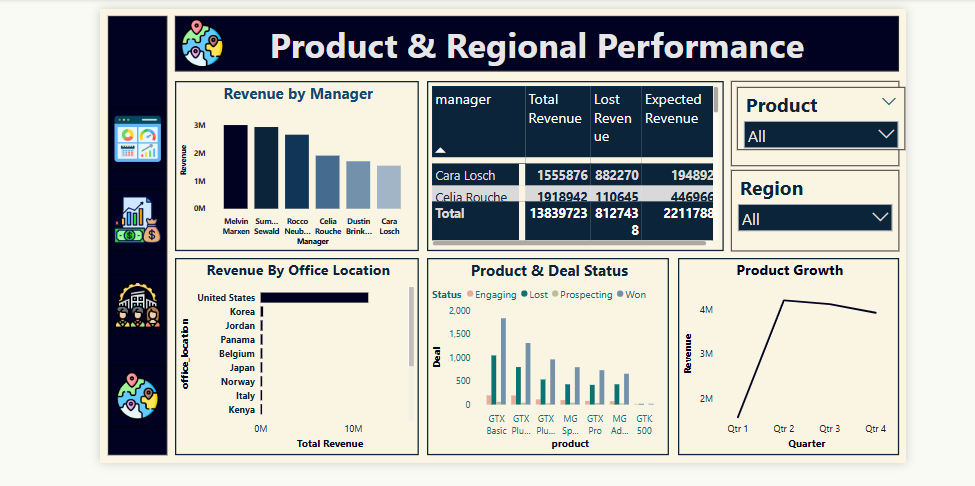

The dashboard page shown, as its layout file describes it:
{"tool":"powerbi","page":{"name":"Sales Team","canvas":[1280,720],"ordinal":3},"visuals":[{"type":"shape","box":[12.3,10.8,93.8,696.9],"z":0},{"type":"image","box":[15.4,156.9,87.7,98.5],"z":1000},{"type":"image","box":[15.4,564.6,87.7,98.5],"z":2000},{"type":"image","box":[15.4,420,87.7,98.5],"z":3000},{"type":"image","box":[15.4,286.2,87.7,98.5],"z":4000},{"type":"shape","title":"dddd","box":[118.5,10.8,1149.2,87.7],"z":5000},{"type":"columnChart","fields":{"Y":["Sum(sales_pipeline.close_value)"],"Category":["sales_teams.manager"]},"box":[119,114.3,387.3,269.8],"z":7000},{"type":"clusteredBarChart","title":"Revenue By Office Location","fields":{"Category":["sales_pipeline.office_location"],"Y":["sales_pipeline.Total Revenue"]},"box":[119,395.2,387.3,312.7],"z":8000},{"type":"pivotTable","fields":{"Values":["sales_pipeline.Total Revenue","sales_pipeline.Lost Revenue","sales_pipeline.Expected Revenue"],"Rows":["sales_pipeline.manager"]},"box":[519,114.3,471.4,269.8],"z":9000},{"type":"clusteredColumnChart","title":"Product & Deal Status","fields":{"Category":["sales_pipeline.product"],"Series":["sales_pipeline.deal_stage"],"Y":["CountNonNull(sales_pipeline.opportunity_id)"]},"box":[519,395.2,384.1,312.7],"z":10000},{"type":"lineChart","title":"Product Growth","fields":{"Category":["sales_pipeline.close_date.Variation.Date Hierarchy.Quarter"],"Y":["Sum(sales_pipeline.close_value)"]},"box":[917.5,395.2,350.8,312.7],"z":11000},{"type":"slicer","fields":{"Values":["sales_pipeline.product"]},"box":[1001.6,114.3,266.7,134.9],"z":12000},{"type":"slicer","fields":{"Values":["sales_teams.regional_office"]},"box":[1001.6,255.6,266.7,128.6],"z":13000},{"type":"image","box":[119,4.8,87.3,98.4],"z":14001}]}

Visuals, with their boxes in screenshot pixels (x1, y1, x2, y2):
shape: detection(104, 12, 164, 459)
image: detection(106, 106, 163, 169)
image: detection(106, 367, 163, 430)
image: detection(106, 274, 163, 337)
image: detection(106, 188, 163, 252)
"dddd" shape: detection(172, 12, 909, 68)
columnChart - Sum(sales_pipeline.close_value) x sales_teams.manager: detection(173, 78, 421, 251)
"Revenue By Office Location" clusteredBarChart: detection(173, 258, 421, 459)
pivotTable - sales_pipeline.Total Revenue x sales_pipeline.Lost Revenue: detection(429, 78, 731, 251)
"Product & Deal Status" clusteredColumnChart: detection(429, 258, 675, 459)
"Product Growth" lineChart: detection(684, 258, 909, 459)
slicer - sales_pipeline.product: detection(738, 78, 909, 165)
slicer - sales_teams.regional_office: detection(738, 169, 909, 251)
image: detection(173, 8, 229, 71)
